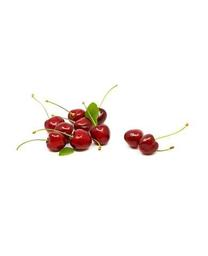cherry: (69, 129, 91, 151), (46, 130, 67, 151), (44, 116, 66, 135), (92, 125, 111, 146), (88, 105, 108, 124), (124, 129, 143, 148), (140, 135, 157, 156), (68, 108, 86, 122), (56, 120, 73, 134), (73, 118, 91, 130)
